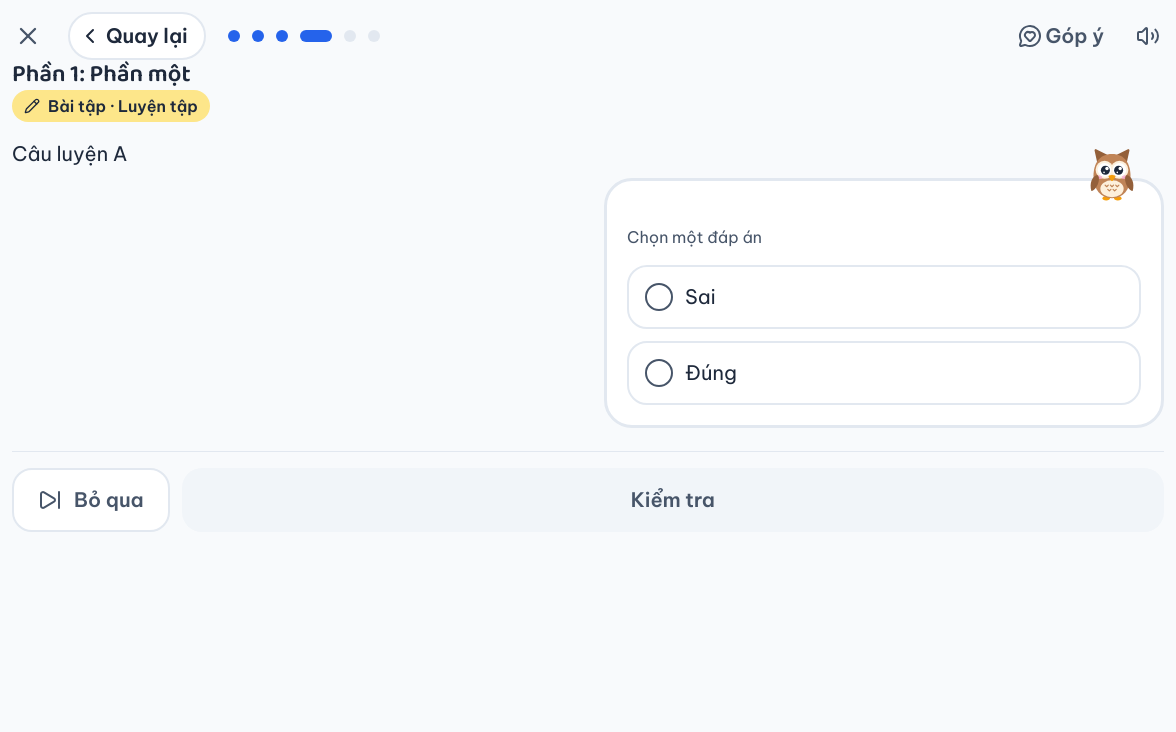
Test: SectionPlayer screens › skips an exercise: moves on, logs it as skipped and rates nothing
This screenshot has width=1176, height=732.
Expected: the text "Câu luyện A" is shown, [12,138,128,170]
Click the button "Bỏ qua".
click(91, 500)  # box [12,468,170,532]
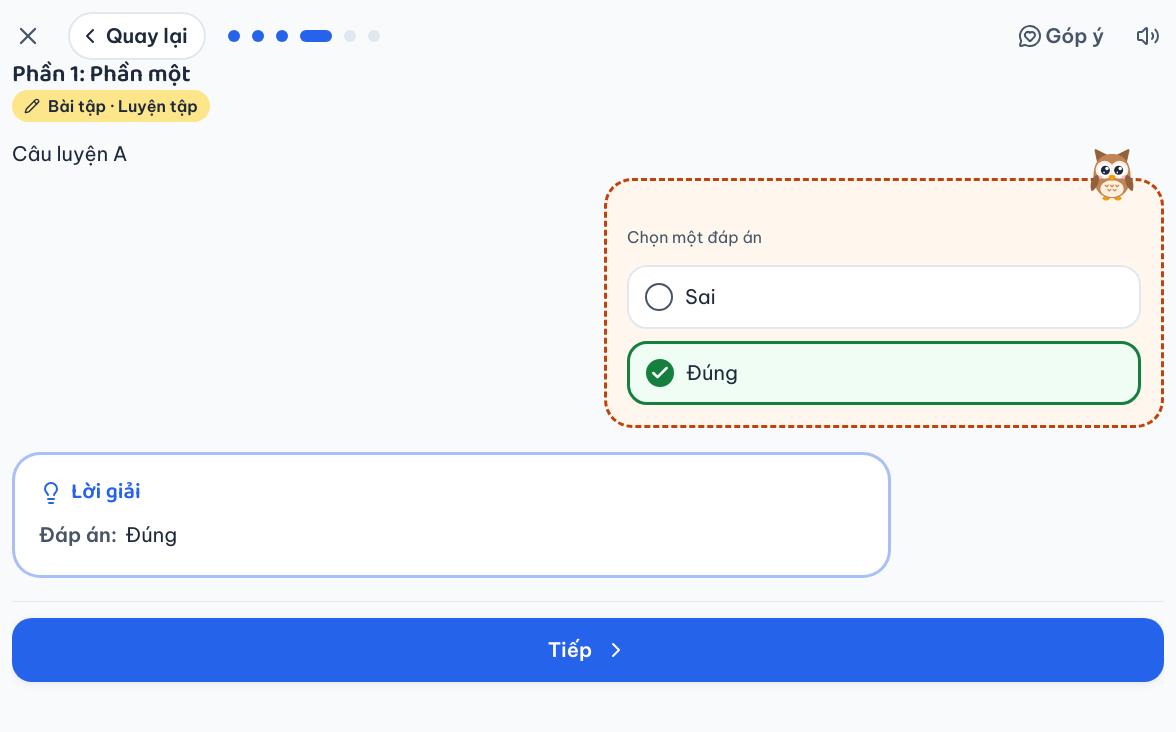
Click the button "Tiếp".
click(588, 650)  # box [12,618,1164,682]
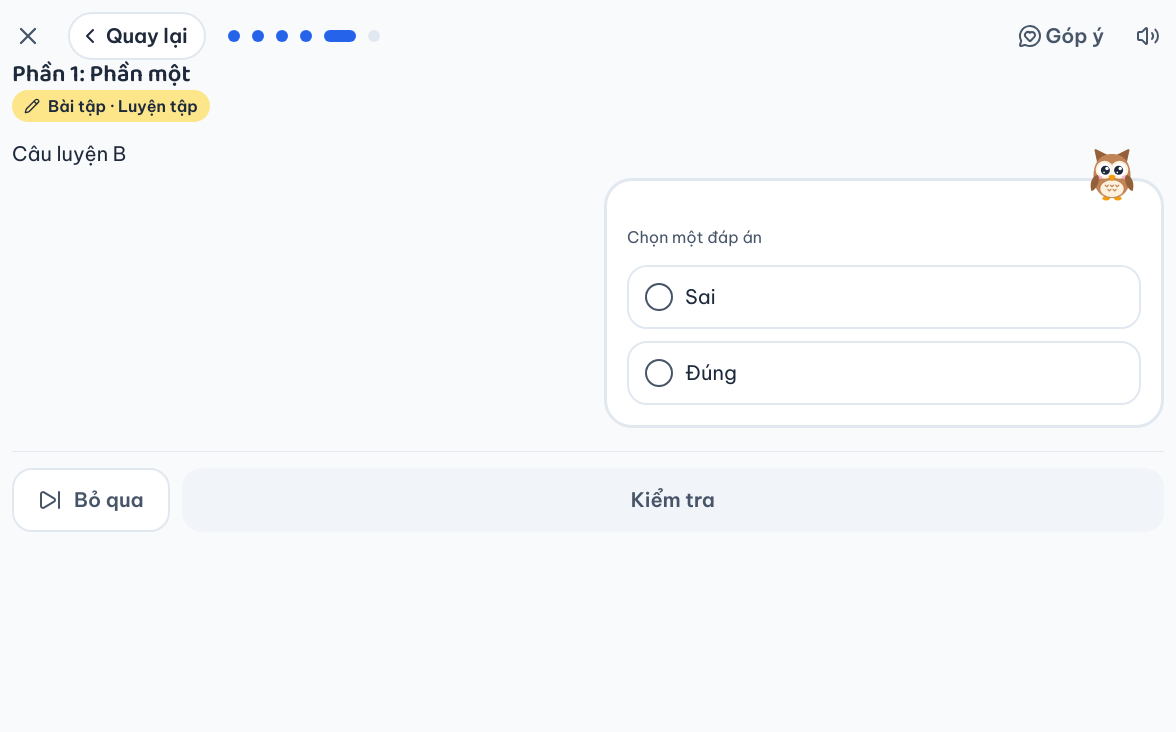
Now the text "Câu luyện B" is shown, box [12,138,126,170]
